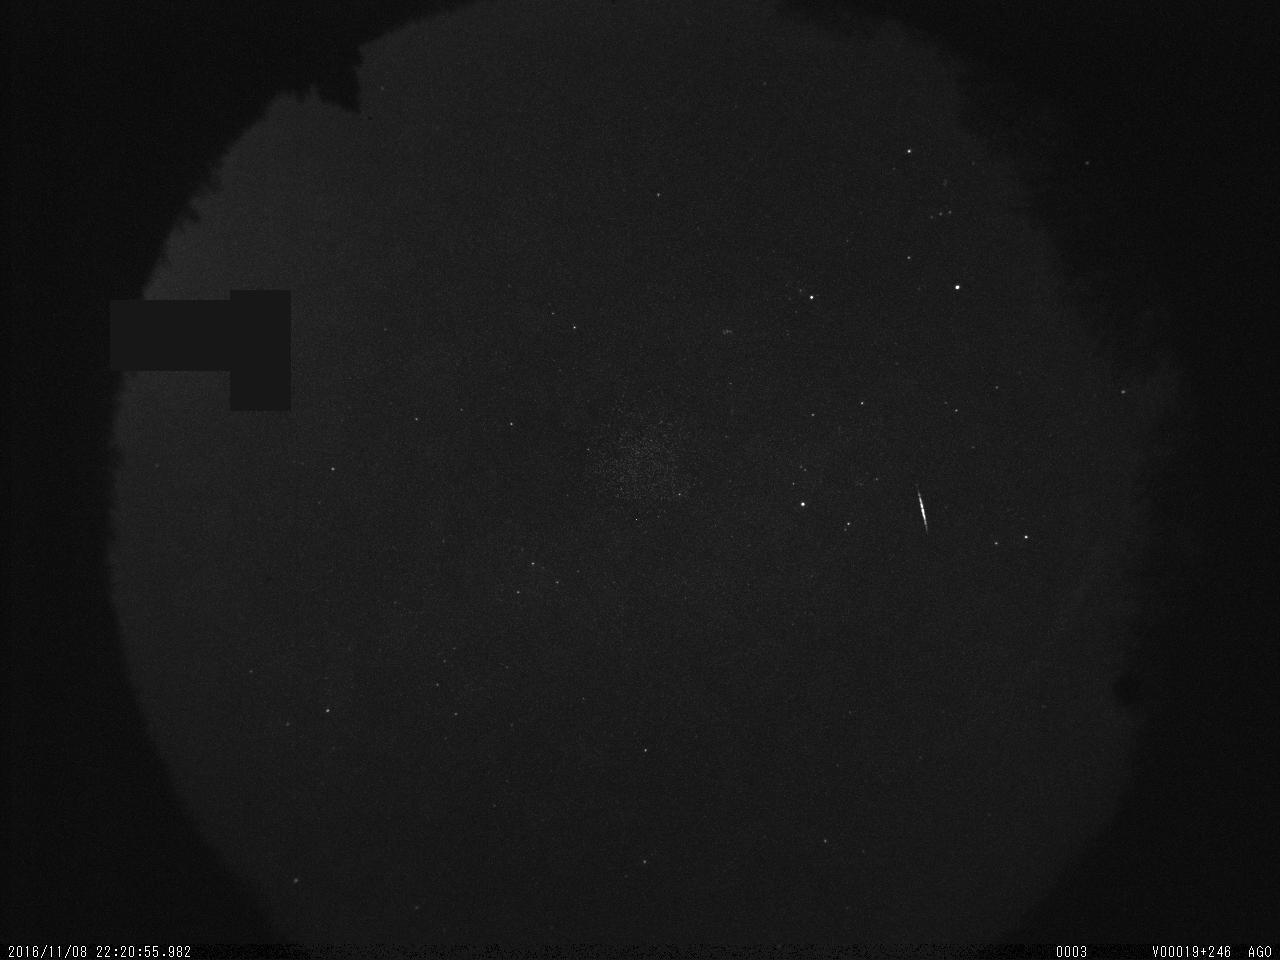meteor: (906, 467, 937, 538)
